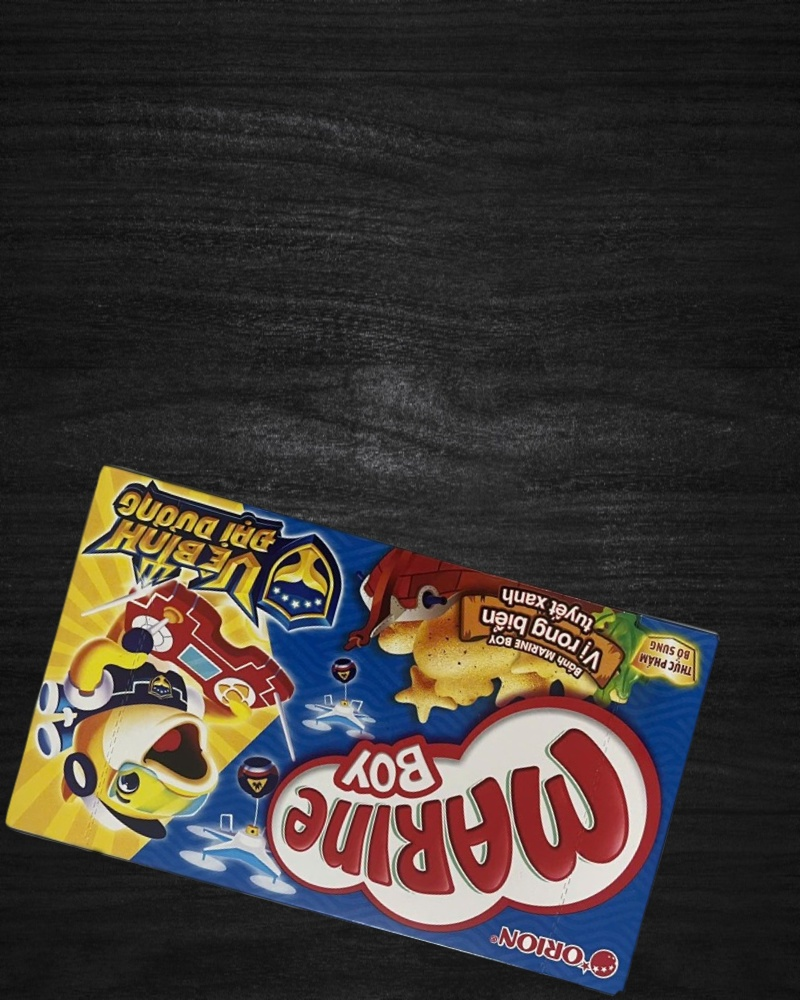Marine: (0, 463, 723, 999)
